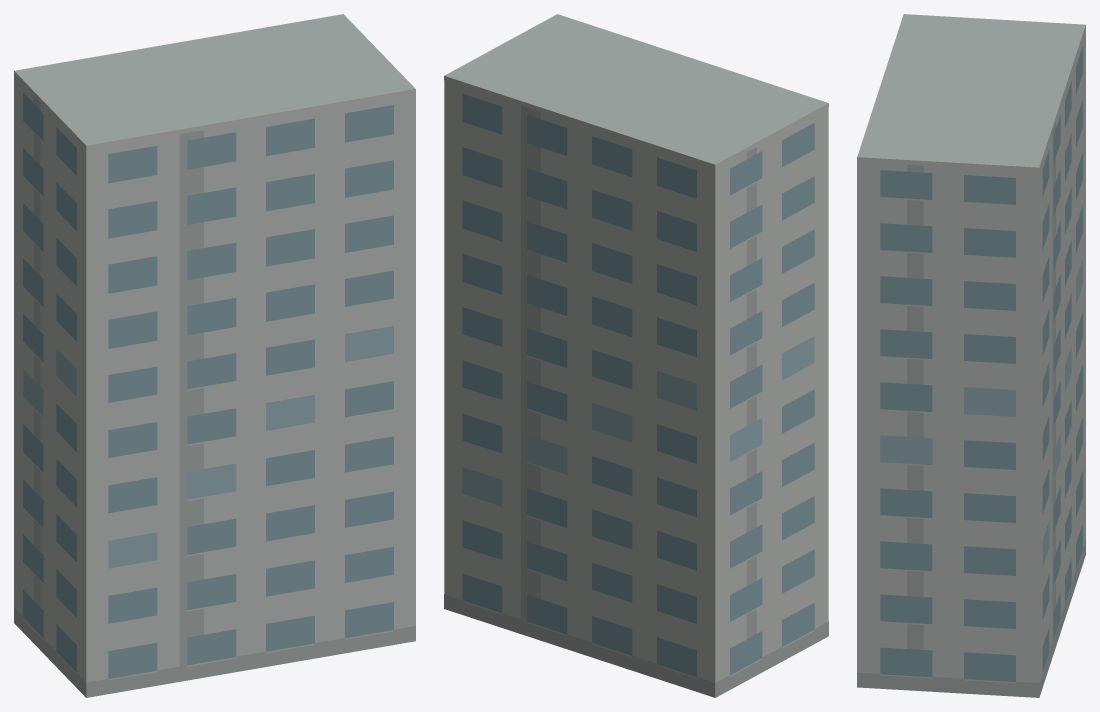
Rendered from residential-650b9f40-62b9-4043-a139-2621d8e43c86.glb.
3 renders of one model, left to right at view 1: azimuth 30°, elevation 25°; view 2: azimuth 150°, elevation 25°; view 3: azimuth 270°, elevation 25°, orthographic. The views are drawn at different scales.
Visible parts, largest first — view 1: residential-650b9f40-62b9-4043-a139-2621d8e43c86.tmp; view 2: residential-650b9f40-62b9-4043-a139-2621d8e43c86.tmp; view 3: residential-650b9f40-62b9-4043-a139-2621d8e43c86.tmp.
Boxes of the visible parts, x1,y1,x2,y2 form: residential-650b9f40-62b9-4043-a139-2621d8e43c86.tmp: (14,14,415,697); residential-650b9f40-62b9-4043-a139-2621d8e43c86.tmp: (444,14,828,697); residential-650b9f40-62b9-4043-a139-2621d8e43c86.tmp: (857,14,1085,697).
Bounding box in the file's own units: 17.4 × 28 × 10.95.
